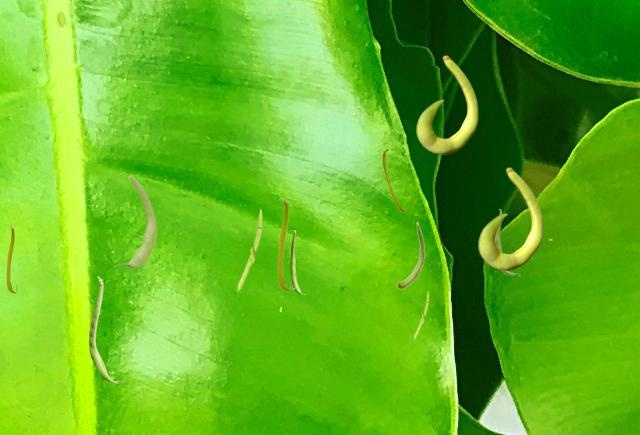french_bean: (478, 167, 542, 269), (416, 55, 477, 153), (113, 174, 156, 267), (89, 276, 121, 382), (236, 207, 262, 300), (396, 221, 424, 288), (496, 208, 519, 275), (382, 148, 405, 211), (277, 197, 291, 290), (290, 230, 304, 293), (413, 290, 428, 344), (6, 225, 16, 292)
